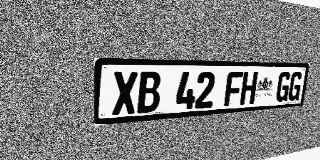2: (195, 72, 216, 109)
4: (175, 72, 197, 110)
B: (137, 71, 161, 113)
F: (224, 72, 243, 106)
G: (275, 72, 292, 102), (287, 72, 303, 101)
H: (240, 72, 258, 105)
X: (112, 71, 138, 115)
